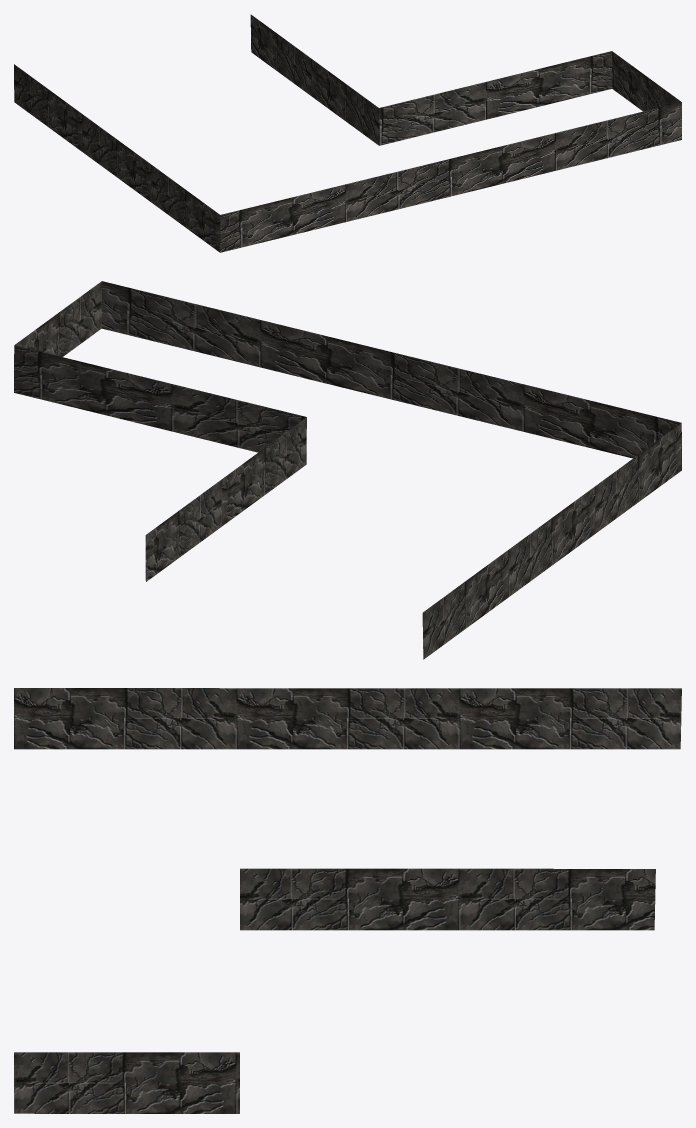
The model's file is CH09_SMAUG_PLAYSURFACE_LAIR110.fbx.
The picture shows the model from 3 angles, top to bottom: view 1: azimuth 30°, elevation 25°; view 2: azimuth 150°, elevation 25°; view 3: azimuth 270°, elevation 25°; orthographic projection. The views are drawn at different scales.
Parts seen in each view (by area): view 1: CH09_SMAUG_PLAYSURFACE_LAIR110; view 2: CH09_SMAUG_PLAYSURFACE_LAIR110; view 3: CH09_SMAUG_PLAYSURFACE_LAIR110.
Boxes of the visible parts, x1=… form: CH09_SMAUG_PLAYSURFACE_LAIR110: x1=14, y1=14, x2=681, y2=252; CH09_SMAUG_PLAYSURFACE_LAIR110: x1=14, y1=281, x2=681, y2=659; CH09_SMAUG_PLAYSURFACE_LAIR110: x1=14, y1=688, x2=681, y2=1113.
Size of the model in its own units: 318534 by 25170 by 246421.
1 material, 1 textured.
